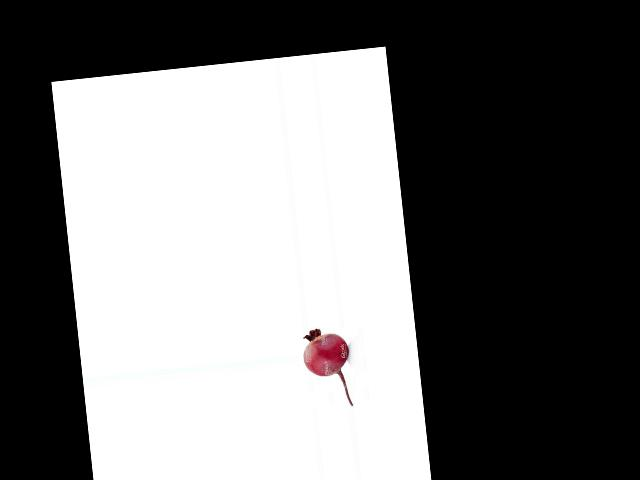beet: (301, 325, 354, 410)
